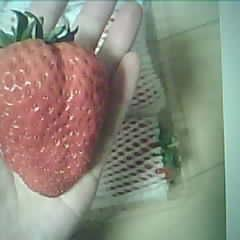straw-ripe: (0, 39, 108, 198)
